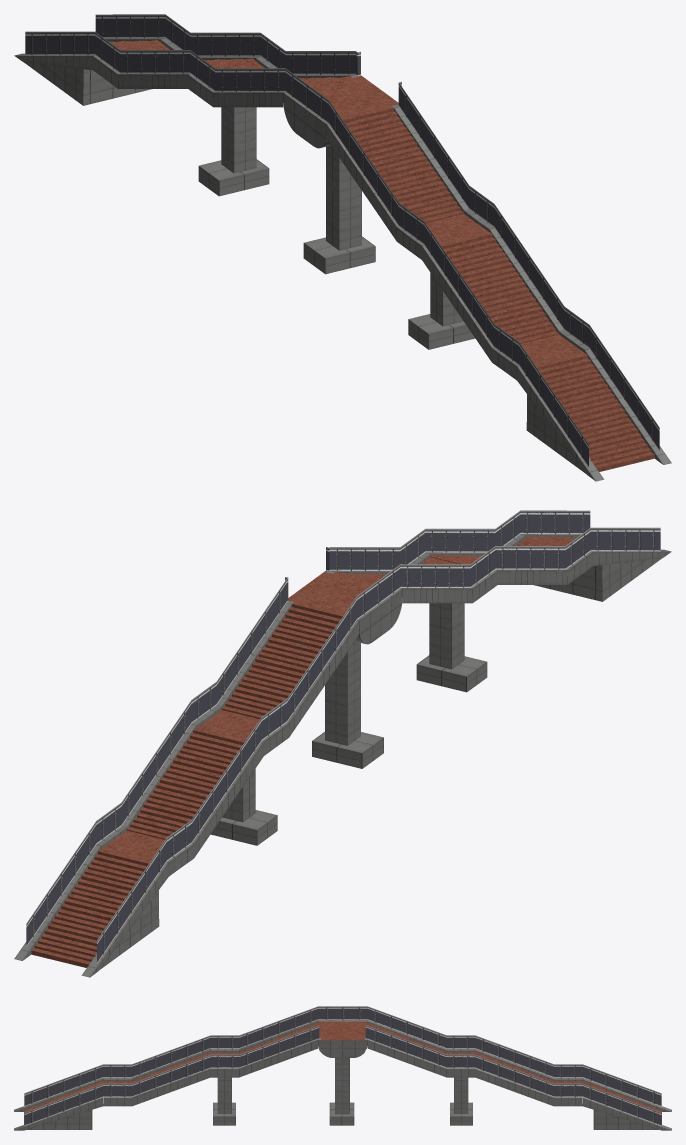
The model's file is sm_prbridge_10m1.fbx.
3 views of the same model, one above another, from view 1: azimuth 30°, elevation 25°; view 2: azimuth 150°, elevation 25°; view 3: azimuth 270°, elevation 25° (orthographic). The views are drawn at different scales.
Visible parts, largest first — view 1: sm_prbridge_10m1; view 2: sm_prbridge_10m1; view 3: sm_prbridge_10m1.
Boxes of the visible parts, x1,y1,x2,y2 form: sm_prbridge_10m1: (14, 14, 671, 481); sm_prbridge_10m1: (14, 510, 671, 977); sm_prbridge_10m1: (14, 1006, 671, 1130).
Size of the model in its own units: 5.04 by 11.62 by 66.61.
3 materials, 3 textured.
